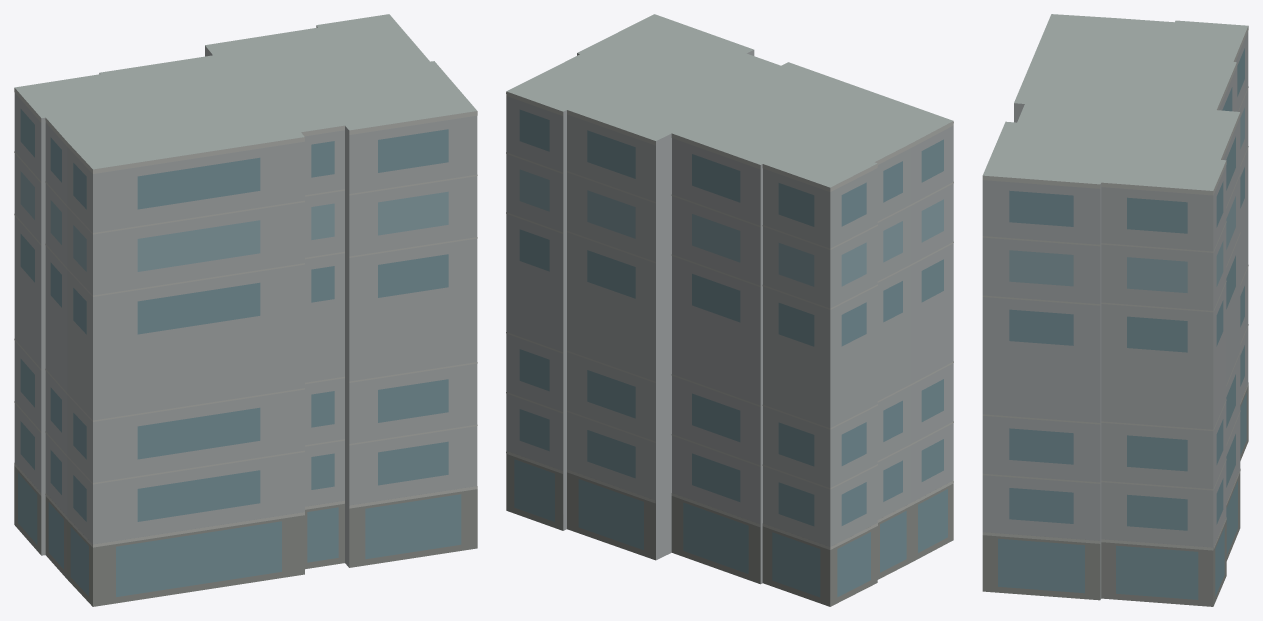
Rendered from survey-upis-32674272.glb.
3 renders of one model, left to right at view 1: azimuth 30°, elevation 25°; view 2: azimuth 150°, elevation 25°; view 3: azimuth 270°, elevation 25°, orthographic. The views are drawn at different scales.
Visible parts, largest first — view 1: survey-upis-32674272.tmp; view 2: survey-upis-32674272.tmp; view 3: survey-upis-32674272.tmp.
Boxes of the visible parts, bbox=[...] form: survey-upis-32674272.tmp: bbox=[14, 14, 477, 606]; survey-upis-32674272.tmp: bbox=[506, 14, 953, 606]; survey-upis-32674272.tmp: bbox=[982, 14, 1248, 606].
Bounding box in the file's own units: 20.67 × 22.61 × 13.12.
